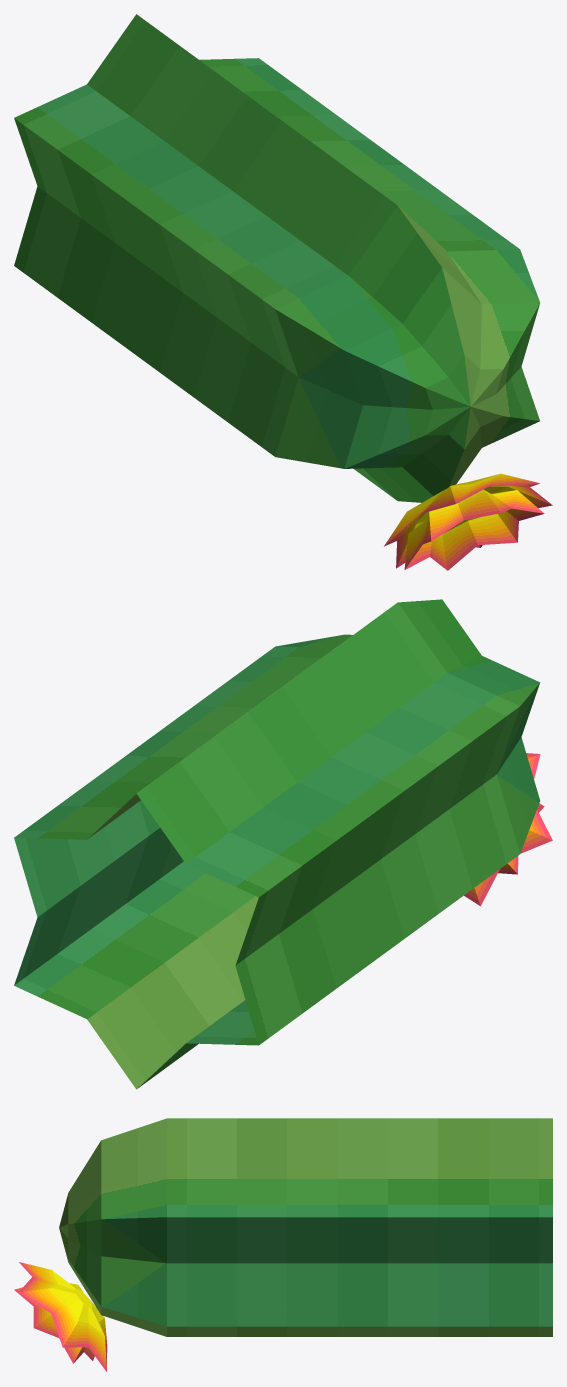
Rendered from cactus-saguaro-top.glb.
The picture shows the model from 3 angles, top to bottom: view 1: azimuth 30°, elevation 25°; view 2: azimuth 150°, elevation 25°; view 3: azimuth 270°, elevation 25°; orthographic projection. The views are drawn at different scales.
Parts seen in each view (by area): view 1: cactus-saguaro-top; view 2: cactus-saguaro-top; view 3: cactus-saguaro-top.
Boxes of the visible parts, bbox=[...] form: cactus-saguaro-top: bbox=[14, 14, 552, 570]; cactus-saguaro-top: bbox=[14, 599, 552, 1089]; cactus-saguaro-top: bbox=[14, 1118, 552, 1371].
Bounding box in the file's own units: 0.433 × 0.5558 × 1.12.
1 material, 1 textured.
